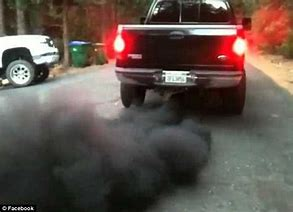smoke: (1, 103, 211, 201)
